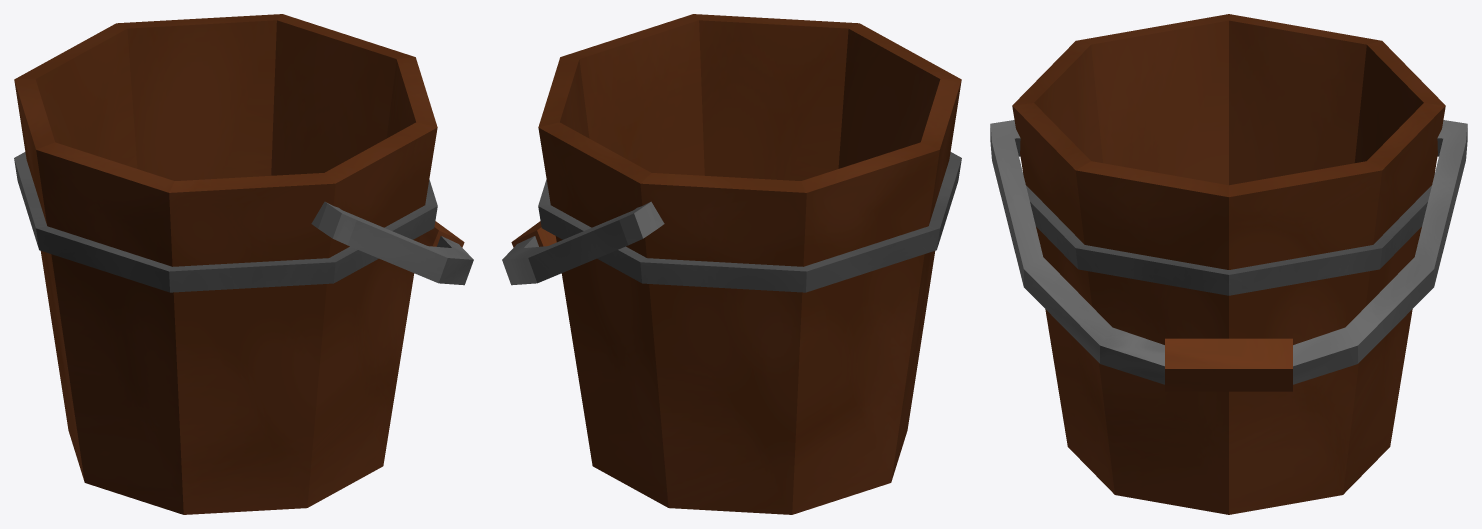
Rendered from Balde.fbx.
The picture shows the model from 3 angles, left to right: view 1: azimuth 30°, elevation 25°; view 2: azimuth 150°, elevation 25°; view 3: azimuth 270°, elevation 25°; orthographic projection.
Visible parts, largest first — view 1: Cylinder.002; view 2: Cylinder.002; view 3: Cylinder.002.
Boxes of the visible parts, x1=… form: Cylinder.002: x1=14, y1=14, x2=473, y2=514; Cylinder.002: x1=502, y1=14, x2=961, y2=514; Cylinder.002: x1=990, y1=14, x2=1467, y2=514.
Size of the model in its own units: 101 by 86.11 by 106.
